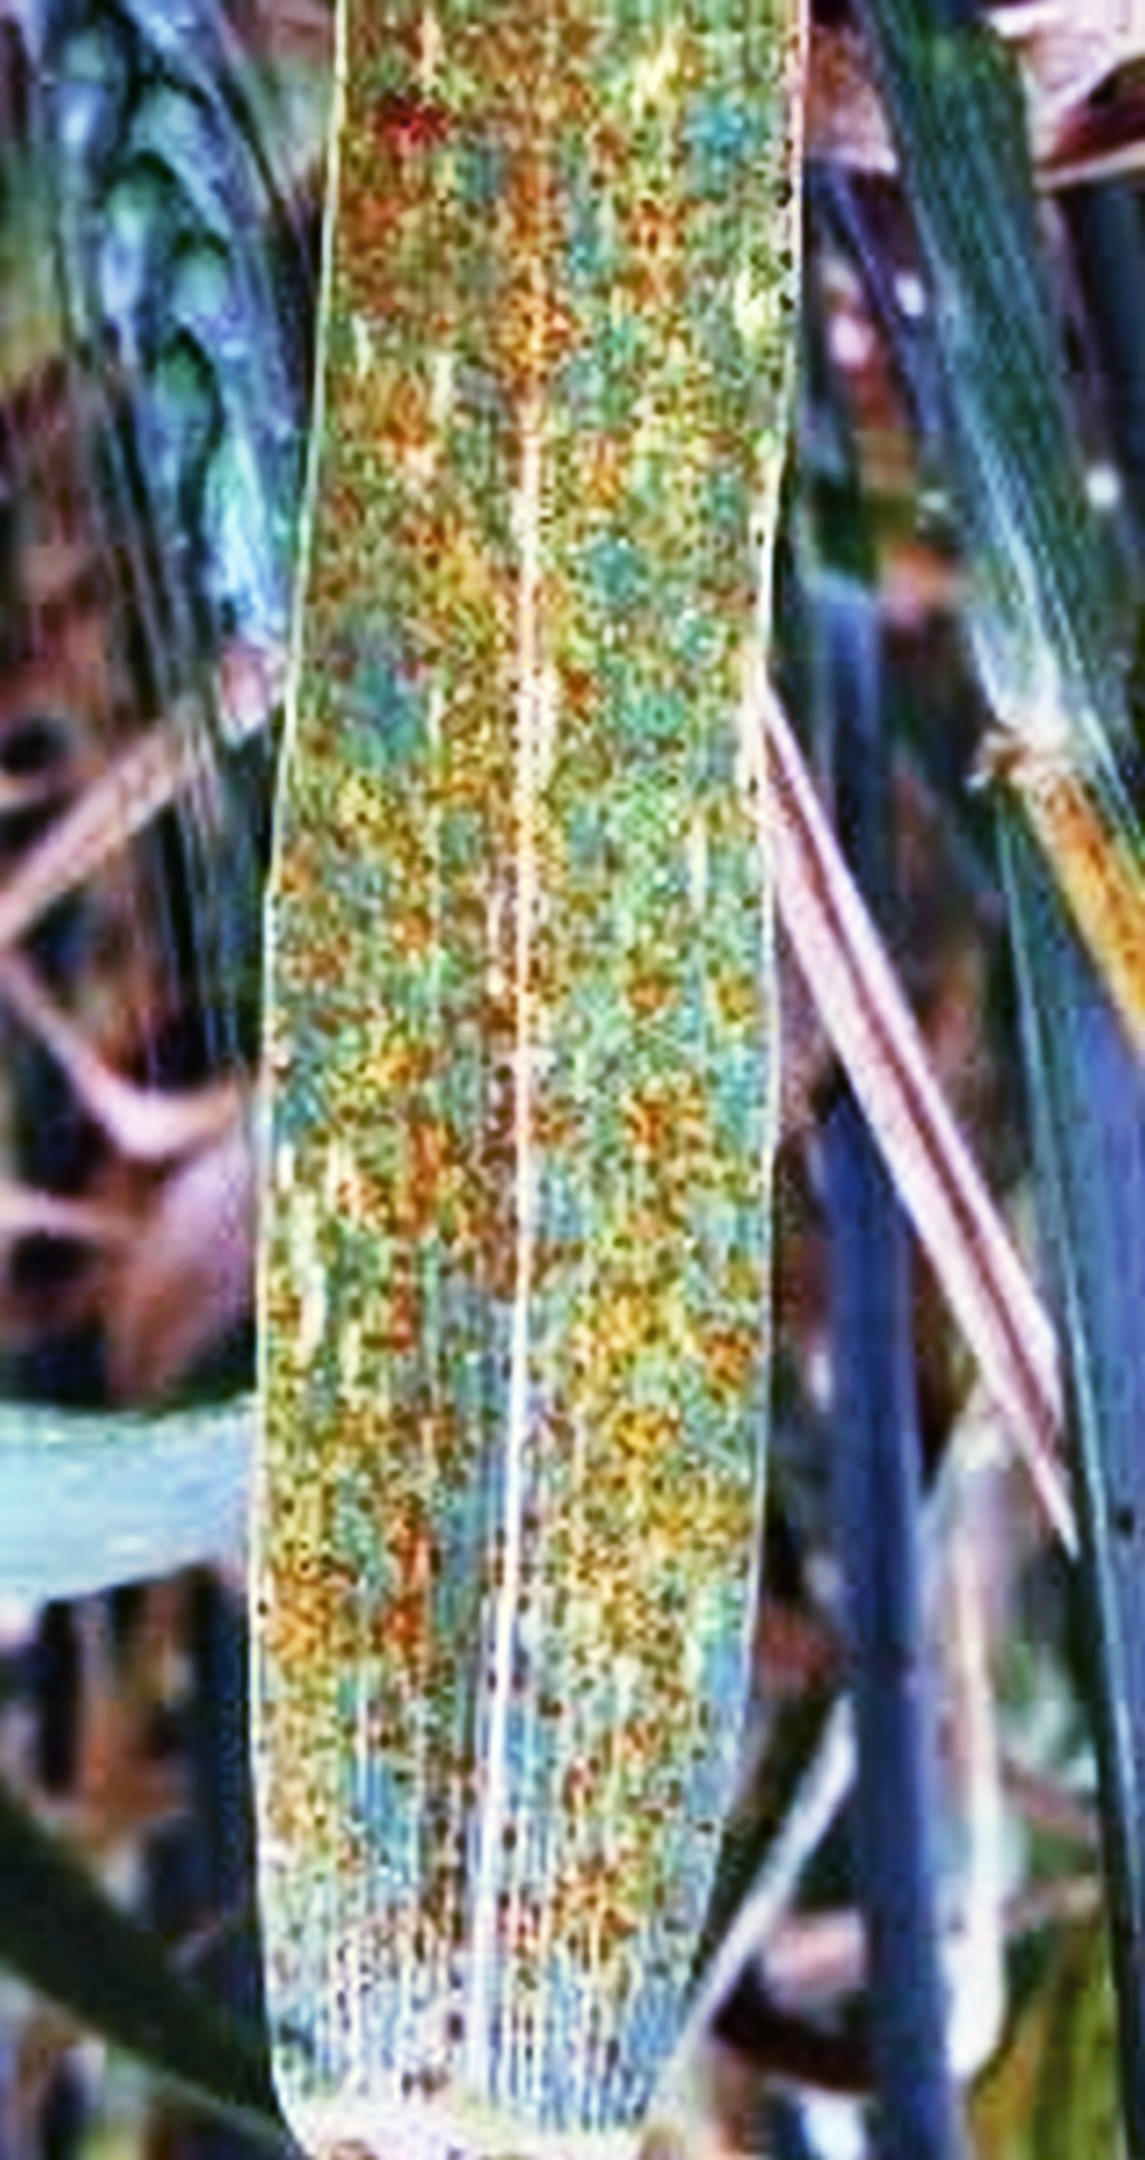Leaf Rust: (256, 94, 794, 2019)
